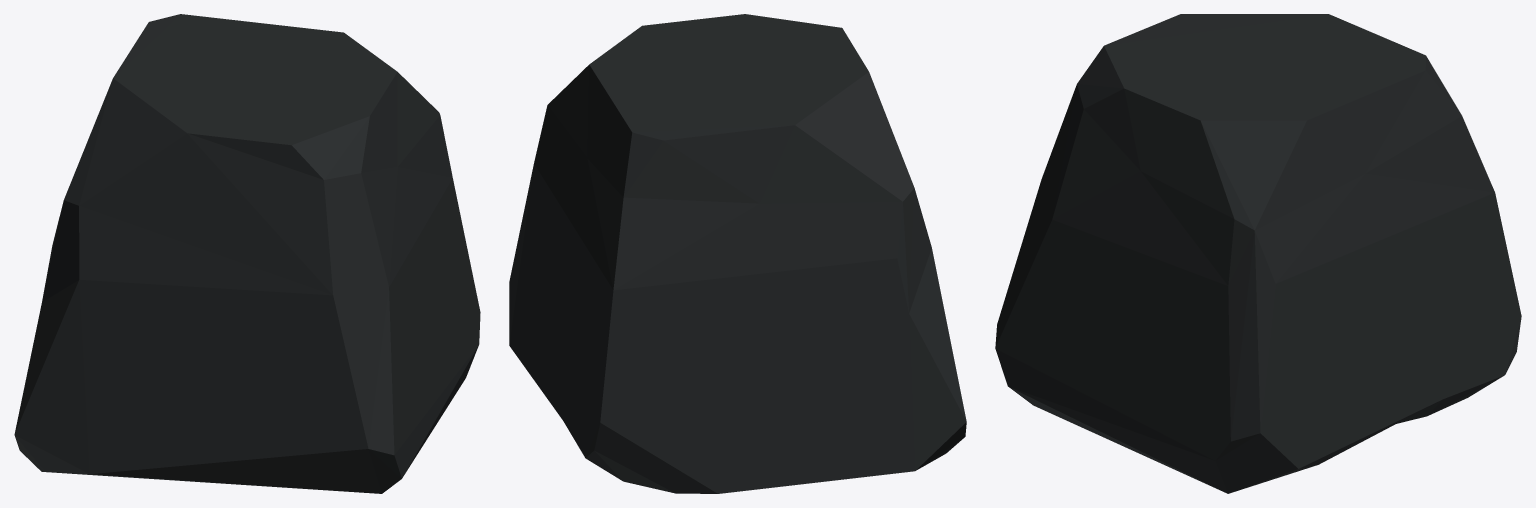
Rendered from Portal_02_Fragment_B.FBX.
3 renders of one model, left to right at view 1: azimuth 30°, elevation 25°; view 2: azimuth 150°, elevation 25°; view 3: azimuth 270°, elevation 25°, orthographic.
Visible parts, largest first — view 1: Portal_02_Fragment_B; view 2: Portal_02_Fragment_B; view 3: Portal_02_Fragment_B.
Boxes of the visible parts, x1,y1,x2,y2 form: Portal_02_Fragment_B: (14, 14, 480, 493); Portal_02_Fragment_B: (509, 14, 966, 493); Portal_02_Fragment_B: (995, 14, 1521, 493).
Size of the model in its own units: 1.03 by 0.7188 by 1.03.
